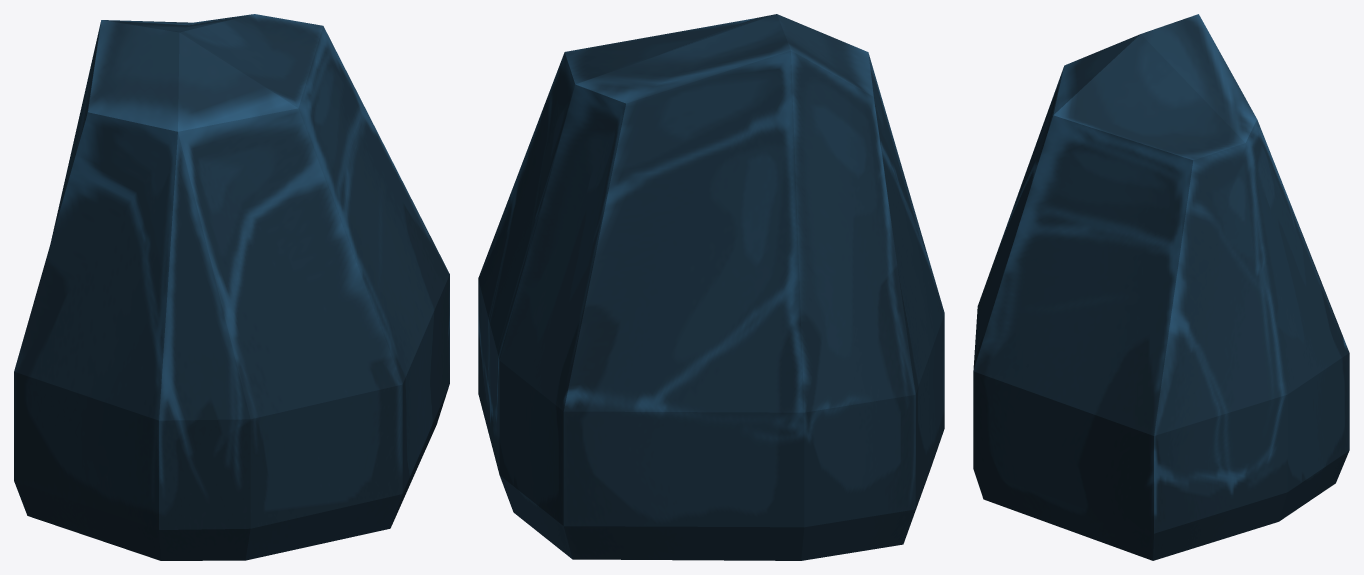
The model's file is Rock4.FBX.
3 views of the same model, side by side, from view 1: azimuth 30°, elevation 25°; view 2: azimuth 150°, elevation 25°; view 3: azimuth 270°, elevation 25° (orthographic). The views are drawn at different scales.
Visible parts, largest first — view 1: Rock4; view 2: Rock4; view 3: Rock4.
Part boxes in pixels (bbox=[...]): Rock4: bbox=[14, 14, 449, 560]; Rock4: bbox=[478, 14, 944, 560]; Rock4: bbox=[973, 14, 1349, 560].
Bounding box in the file's own units: 26.36 × 27.26 × 22.55.
